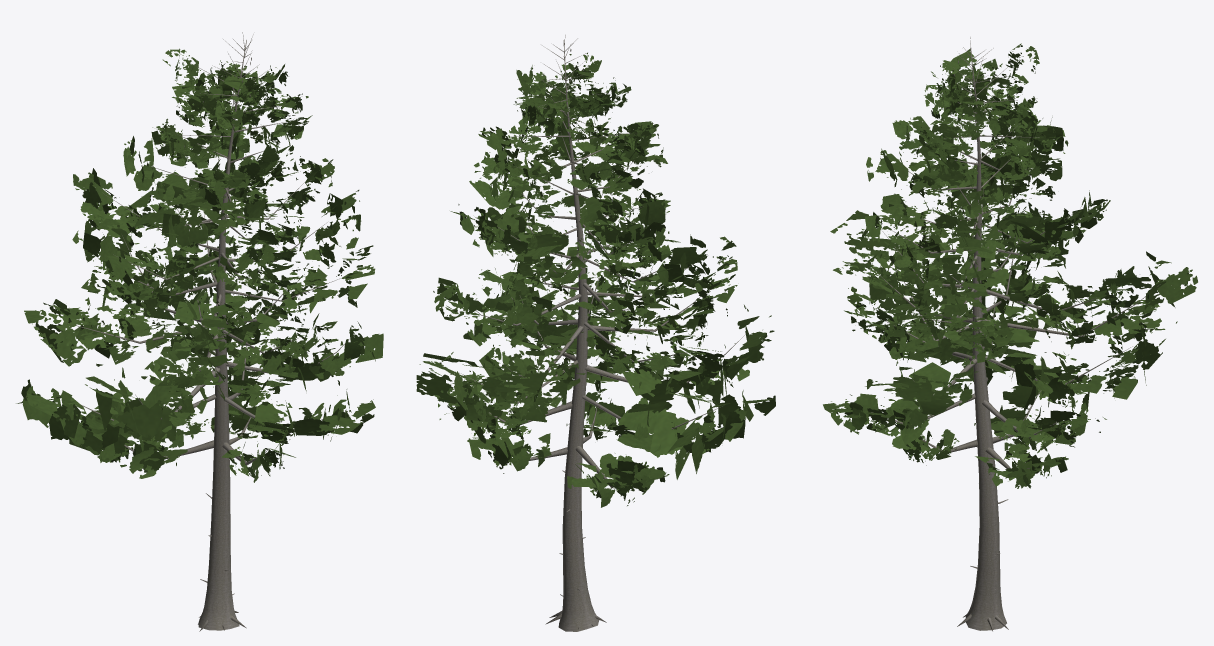
File: HeroEasternWhitePineLOD0.fbx
The picture shows the model from 3 angles, left to right: view 1: azimuth 30°, elevation 25°; view 2: azimuth 150°, elevation 25°; view 3: azimuth 270°, elevation 25°; orthographic projection.
Visible parts, largest first — view 1: Foliage, Bark; view 2: Foliage, Bark; view 3: Foliage, Bark.
Part boxes in pixels (x1,y1,x2,y2): Foliage: [16, 48, 383, 482]; Bark: [65, 32, 353, 631]; Foliage: [416, 53, 775, 507]; Bark: [461, 35, 744, 631]; Foliage: [823, 43, 1197, 488]; Bark: [871, 37, 1160, 631].
Size of the model in its own units: 15.25 by 27.08 by 15.4.
